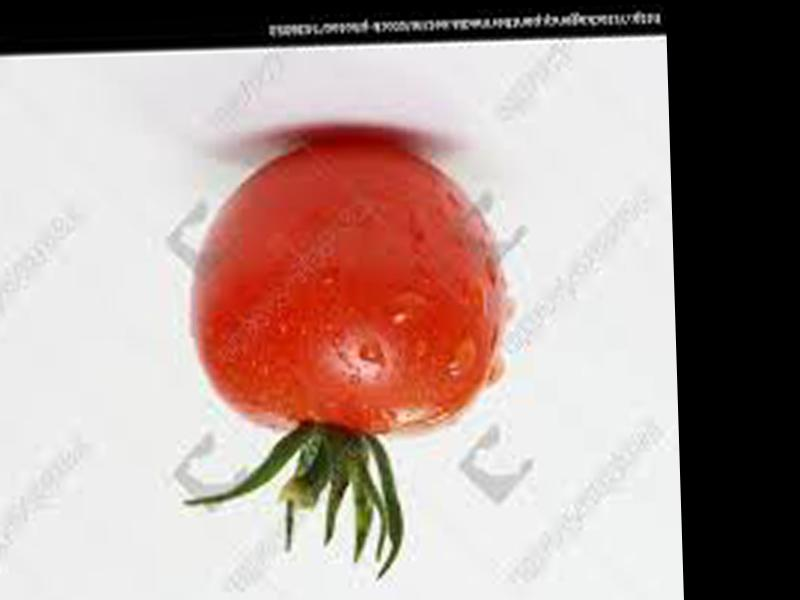Tomato: (185, 133, 501, 439)
